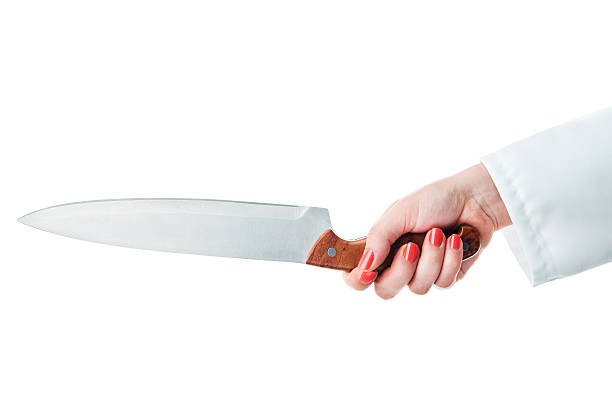knife: (17, 195, 483, 271)
